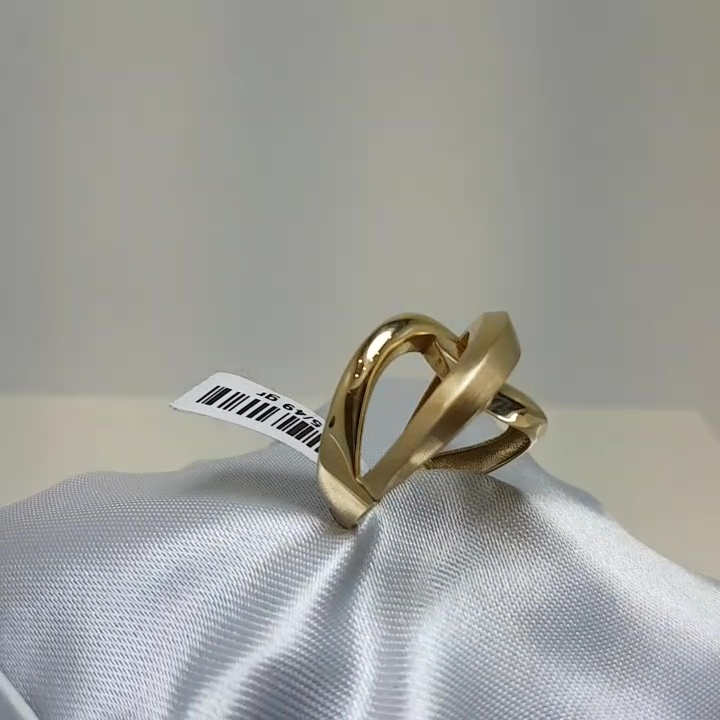Ring 3: (309, 292, 559, 552)
